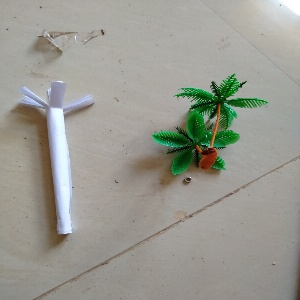plant: (155, 74, 240, 171)
weed: (15, 81, 99, 235)
